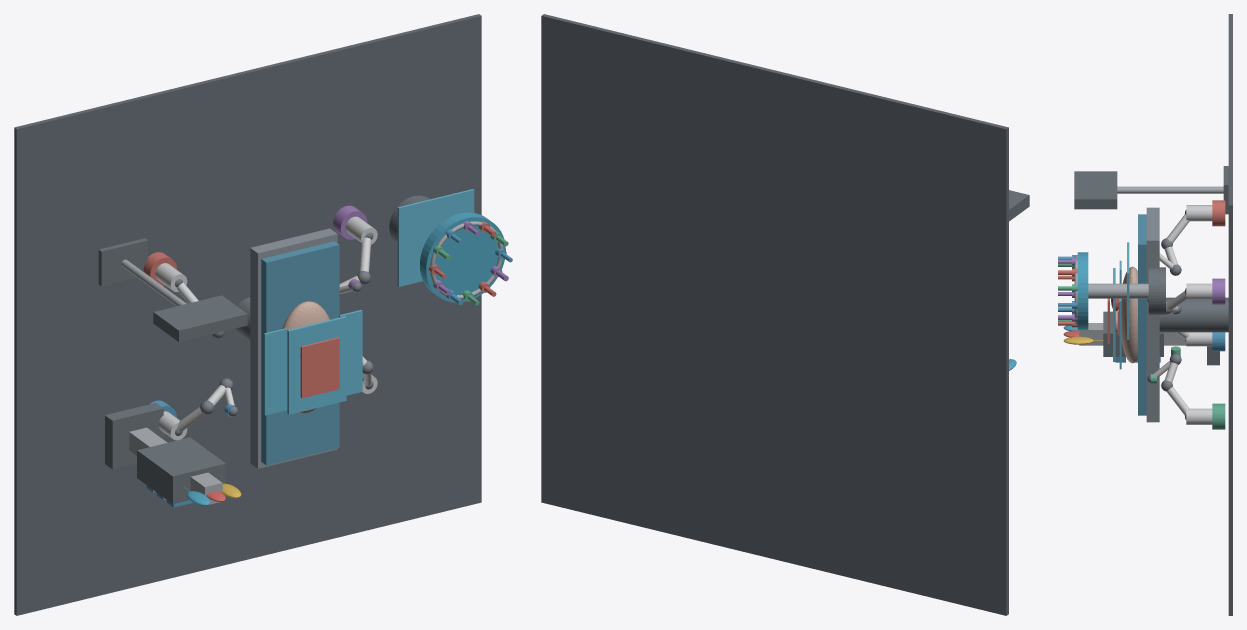
File: dranmar_autonomous_rescue_or_workspace_debug.glb
The picture shows the model from 3 angles, left to right: view 1: azimuth 30°, elevation 25°; view 2: azimuth 150°, elevation 25°; view 3: azimuth 270°, elevation 25°; orthographic projection. The views are drawn at different scales.
Visible parts, largest first — view 1: floor, mattress, carousel_rotor, table_base, pump_rack, tool_exchange, central_field, monitor_body, resus_base, emergency_field, left_flank, monitor_base (+3 smaller); view 2: floor; view 3: floor, table_base, table_column, monitor_body, mattress, patient_torso, carousel_column, carousel_rotor, carousel_base, monitor_pole, resus_column, pump_rack (+11 smaller).
Part boxes in pixels (x1,y1,x2,y2): floor: (14, 14, 481, 615); mattress: (261, 241, 339, 465); carousel_rotor: (420, 212, 505, 302); table_base: (250, 228, 337, 468); pump_rack: (137, 437, 225, 503); tool_exchange: (397, 189, 474, 286); central_field: (287, 316, 346, 414); monitor_body: (153, 295, 247, 342); resus_base: (105, 403, 163, 469); emergency_field: (300, 337, 339, 398); left_flank: (264, 328, 287, 415); monitor_base: (98, 238, 147, 286); floor: (541, 14, 1008, 615); floor: (1228, 14, 1232, 615); table_base: (1146, 207, 1159, 422); table_column: (1159, 297, 1228, 332); monitor_body: (1074, 171, 1117, 209); mattress: (1138, 214, 1146, 415); patient_torso: (1121, 266, 1137, 363); carousel_column: (1088, 283, 1148, 298); carousel_rotor: (1077, 252, 1088, 329); carousel_base: (1148, 267, 1165, 314); monitor_pole: (1117, 186, 1223, 193); resus_column: (1079, 323, 1186, 345); pump_rack: (1103, 311, 1163, 356).
Size of the model in its own units: 4.2 by 4.2 by 1.62.
